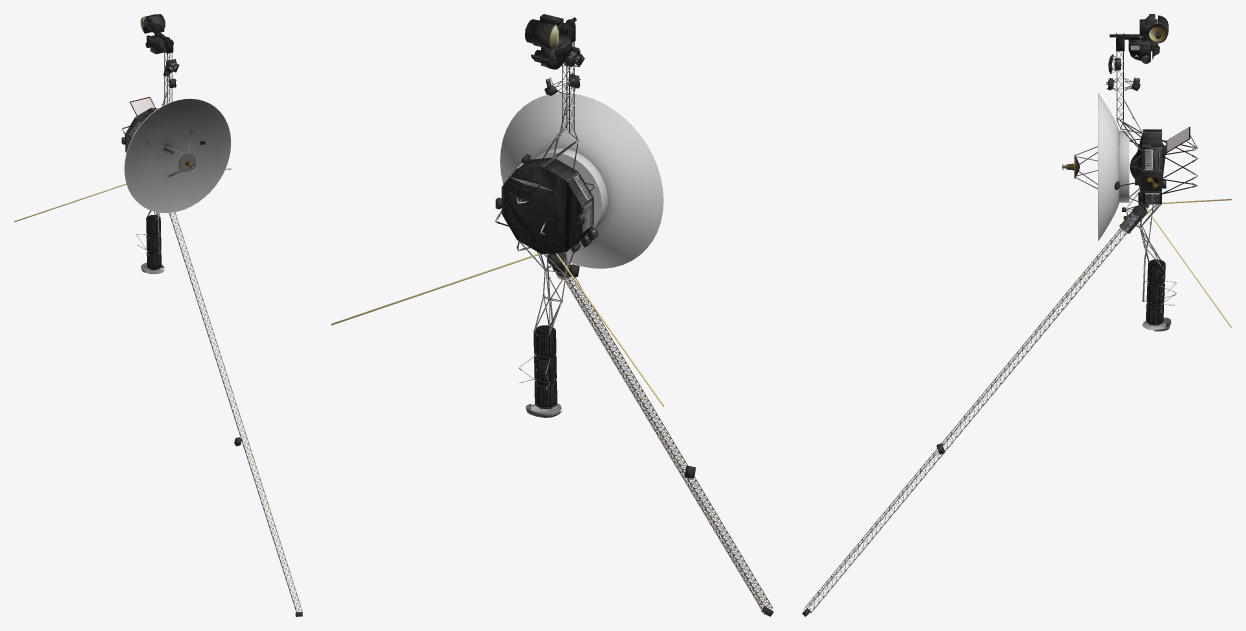
The model's file is voyager.glb.
The picture shows the model from 3 angles, left to right: view 1: azimuth 30°, elevation 25°; view 2: azimuth 150°, elevation 25°; view 3: azimuth 270°, elevation 25°; orthographic projection. The views are drawn at different scales.
Visible parts, largest first — view 1: tex_02_AO.001, tex_01.001; view 2: tex_01.001, tex_02_AO.001, tex_02_AO_dark.001; view 3: tex_01.001, tex_02_AO.001, tex_02_AO_dark.001.
Part boxes in pixels (x1=…): tex_02_AO.001: x1=124, y1=98, x2=230, y2=212; tex_01.001: x1=14, y1=14, x2=302, y2=616; tex_01.001: x1=331, y1=14, x2=773, y2=616; tex_02_AO.001: x1=500, y1=93, x2=663, y2=268; tex_02_AO_dark.001: x1=534, y1=148, x2=607, y2=227; tex_01.001: x1=802, y1=14, x2=1231, y2=616; tex_02_AO.001: x1=1062, y1=93, x2=1119, y2=240; tex_02_AO_dark.001: x1=1119, y1=131, x2=1129, y2=202.
Size of the model in its own units: 7.75 by 16.91 by 11.04.
Materials: 4 (3 with a texture image).
